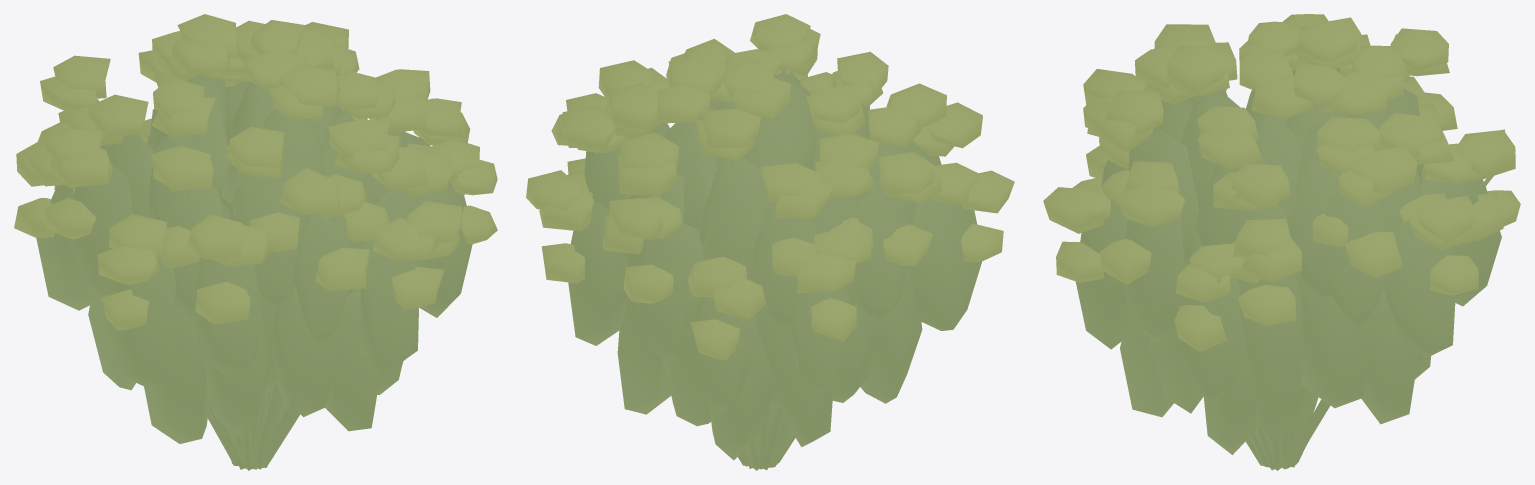
Rendered from Blender_Rabbitbrush_1.glb.
3 views of the same model, side by side, from view 1: azimuth 30°, elevation 25°; view 2: azimuth 150°, elevation 25°; view 3: azimuth 270°, elevation 25° (orthographic). The views are drawn at different scales.
Visible parts, largest first — view 1: Blender_Rabbitbrush_1; view 2: Blender_Rabbitbrush_1; view 3: Blender_Rabbitbrush_1.
Part boxes in pixels (x1=…): Blender_Rabbitbrush_1: x1=14, y1=14, x2=497, y2=470; Blender_Rabbitbrush_1: x1=526, y1=14, x2=1014, y2=470; Blender_Rabbitbrush_1: x1=1043, y1=14, x2=1520, y2=470.
Size of the model in its own units: 1.17 by 1.16 by 1.16.
